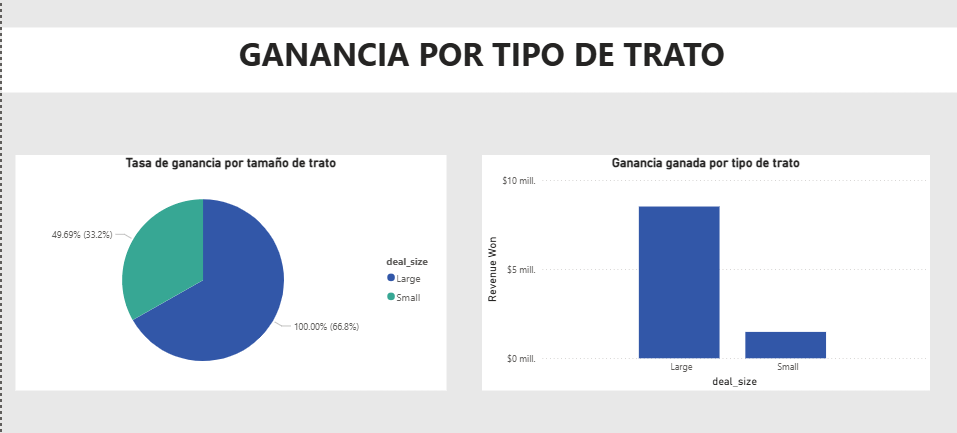

What the dashboard file says about the page in this screenshot:
{"tool":"powerbi","page":{"name":"Deal size","canvas":[1280,720],"ordinal":4},"visuals":[{"type":"pieChart","title":"Tasa de ganancia por tamaño de trato","fields":{"Category":["Fact_sales_pipeline.deal_size"],"Y":["Fact_sales_pipeline.Win Rate"]},"box":[18.9,255.1,574.5,313.7],"z":0},{"type":"columnChart","title":"Ganancia ganada por tipo de trato","fields":{"Category":["Fact_sales_pipeline.deal_size"],"Y":["Fact_sales_pipeline.Revenue Won"]},"box":[640.6,255.1,597.2,313.7],"z":1000},{"type":"textbox","box":[0,85,1279.4,86.9],"z":1001}]}

Visuals, with their boxes on the page's 1280x720 design canvas (x1, y1, x2, y2). These are canvas units, not pixel positions in the 957x433 screenshot, which may show the page scaled, cropped or inside an application window:
"Tasa de ganancia por tamaño de trato" pieChart: bbox(19, 255, 593, 569)
"Ganancia ganada por tipo de trato" columnChart: bbox(641, 255, 1238, 569)
textbox: bbox(0, 85, 1279, 172)
